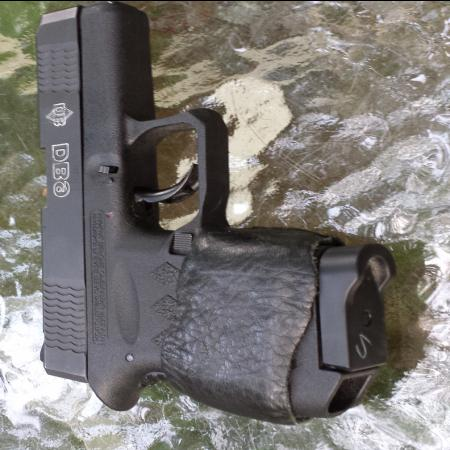Pistol: (37, 3, 390, 416)
